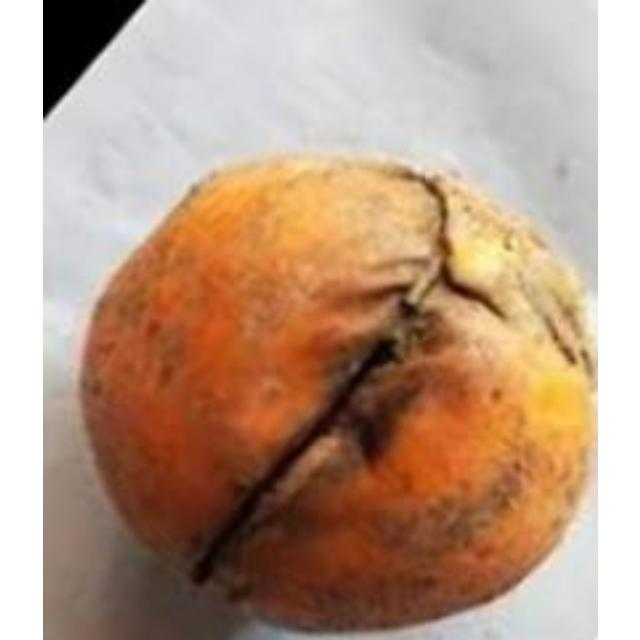damaged: (74, 151, 594, 635)
